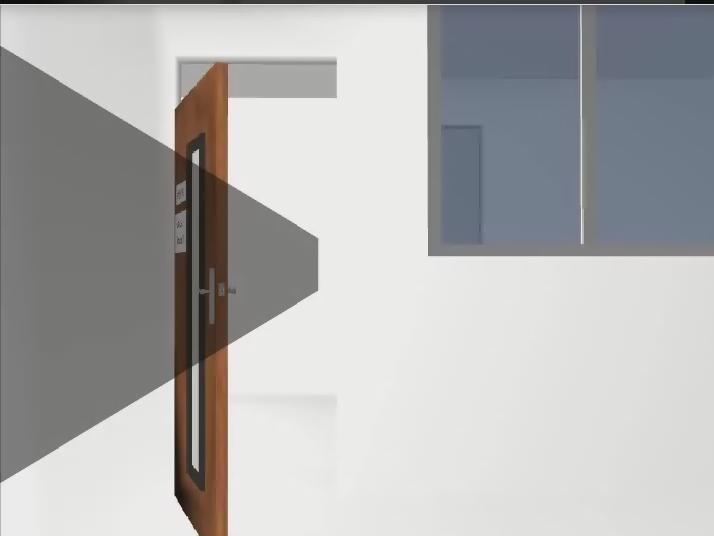door: (174, 63, 227, 536)
